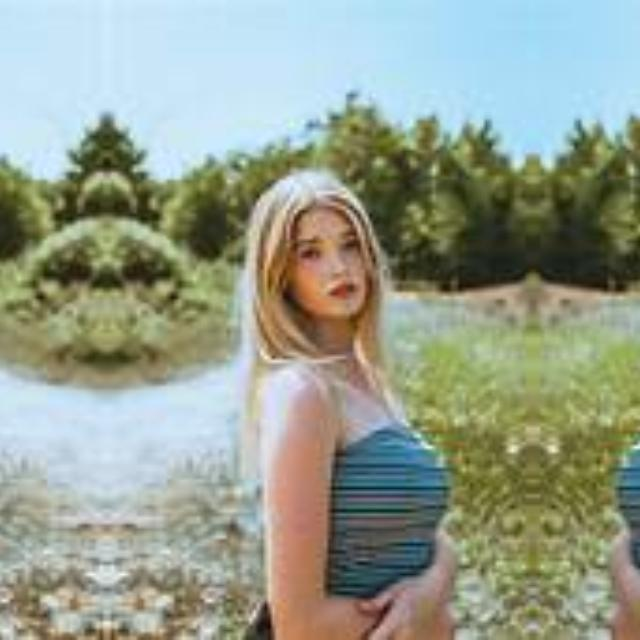person: (221, 160, 503, 640), (562, 160, 640, 640)
